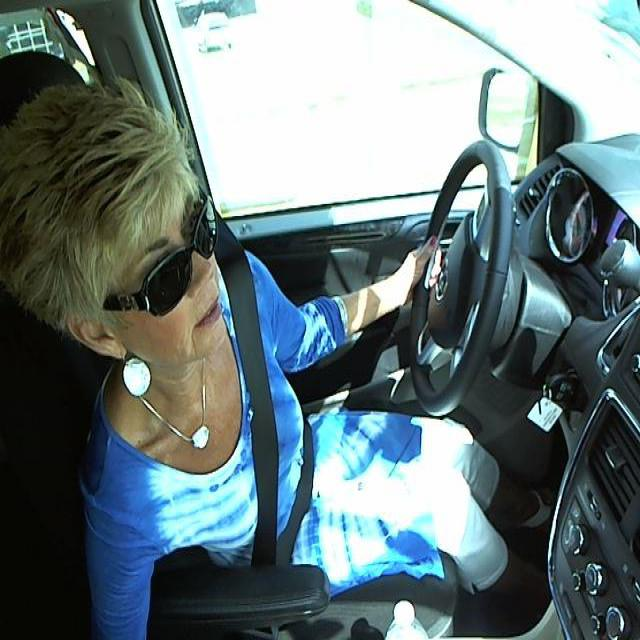seatbelt: (230, 266, 313, 558)
